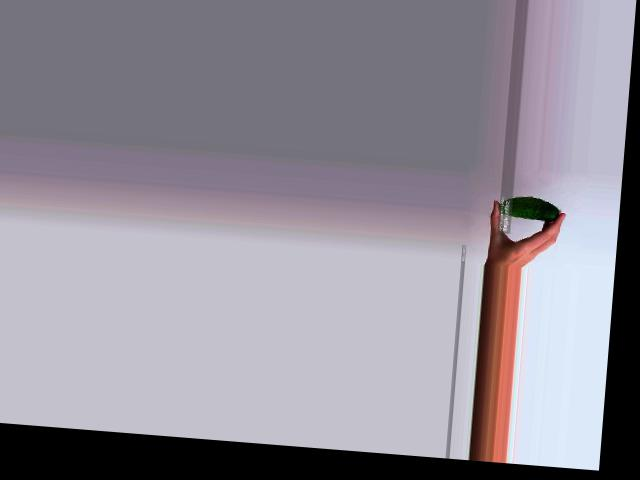cucumber: (498, 193, 560, 221)
